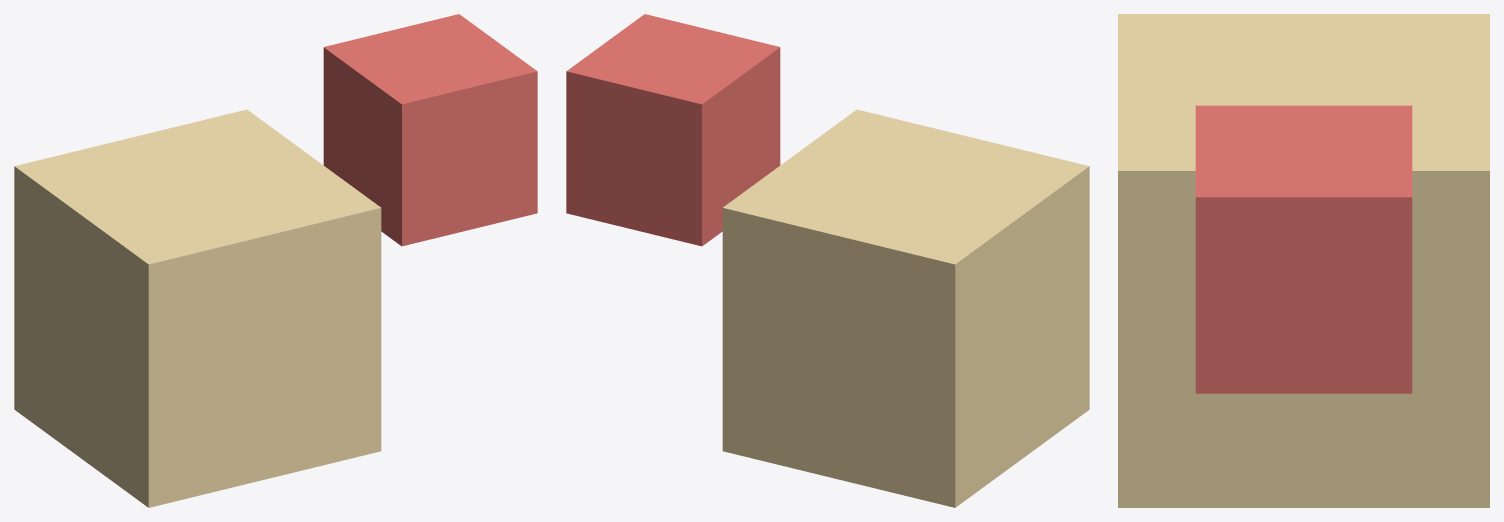
3 views of the same model, side by side, from view 1: azimuth 30°, elevation 25°; view 2: azimuth 150°, elevation 25°; view 3: azimuth 270°, elevation 25° (orthographic). The views are drawn at different scales.
Parts seen in each view (by area): view 1: GoldCube, RedChild; view 2: GoldCube, RedChild; view 3: GoldCube, RedChild.
Boxes of the visible parts, box(x1,y1,x2,y2) form: GoldCube: box(14, 109, 381, 507); RedChild: box(323, 14, 537, 246); GoldCube: box(722, 109, 1089, 507); RedChild: box(566, 14, 780, 246); GoldCube: box(1118, 14, 1489, 507); RedChild: box(1195, 105, 1412, 393).
Size of the model in its own units: 2.15 by 1.55 by 1.2.
